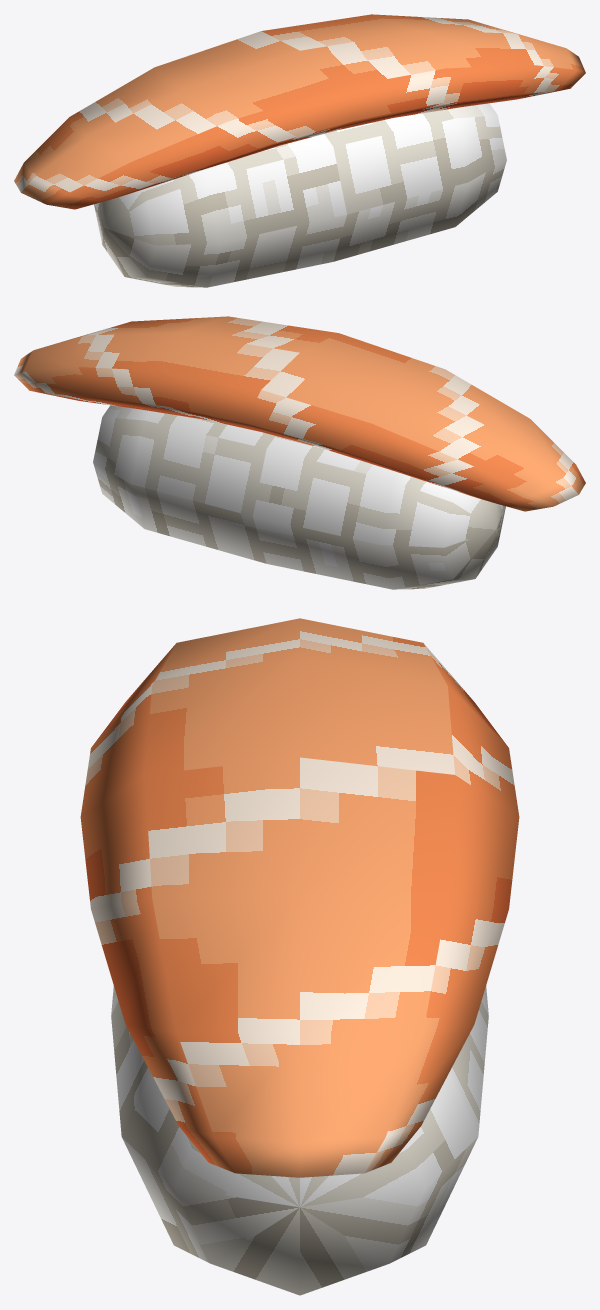
The model's file is meals-salmonNigiri.glb.
3 renders of one model, top to bottom at view 1: azimuth 30°, elevation 25°; view 2: azimuth 150°, elevation 25°; view 3: azimuth 270°, elevation 25°, orthographic. The views are drawn at different scales.
Visible parts, largest first — view 1: meals.salmonNigiri; view 2: meals.salmonNigiri; view 3: meals.salmonNigiri.
Part boxes in pixels (x1,y1,x2,y2): meals.salmonNigiri: (14, 14, 585, 287); meals.salmonNigiri: (14, 316, 585, 589); meals.salmonNigiri: (80, 618, 519, 1295).
Size of the model in its own units: 1.99 by 0.717 by 0.6772.
2 materials, 2 textured.
